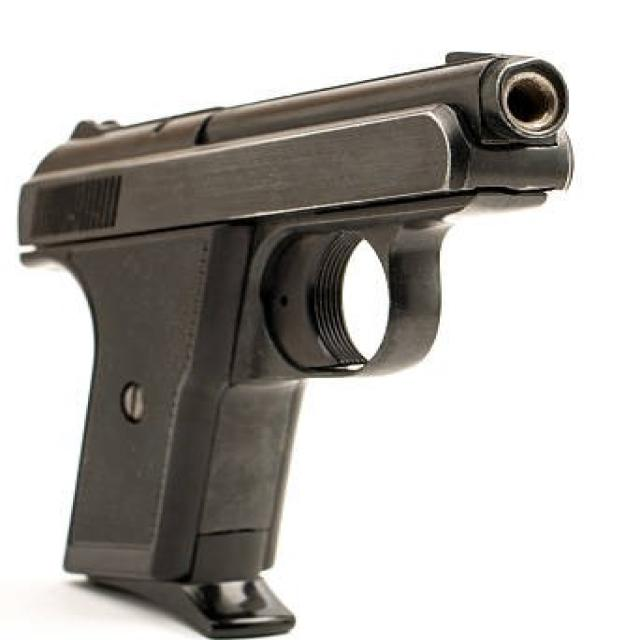pistol: (7, 42, 578, 640)
